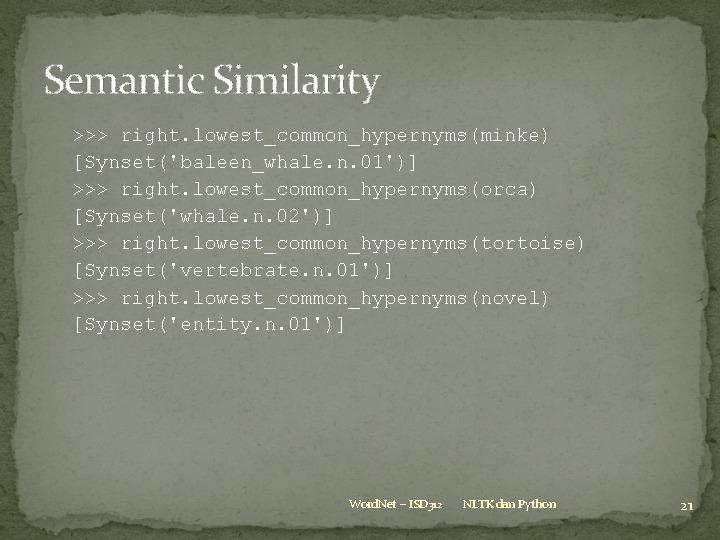paragraph: (61, 113, 611, 381)
subtitle: (336, 484, 566, 517)
title: (40, 45, 389, 110)
